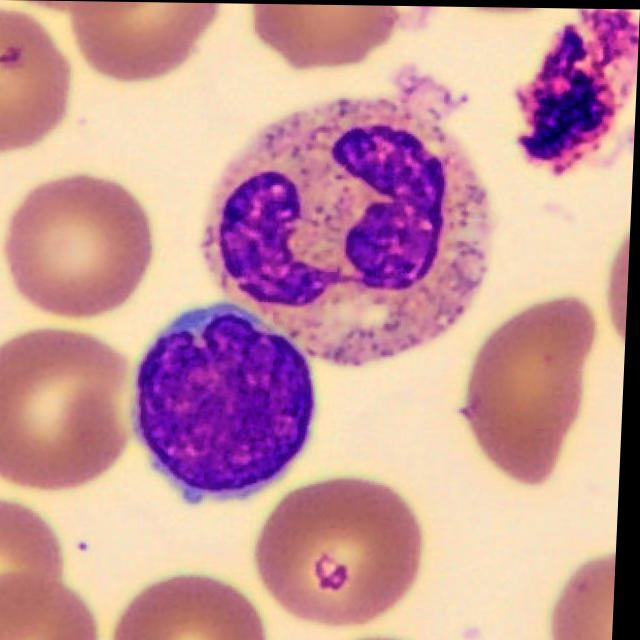Linfocito: (138, 304, 320, 497)
Neutrofilo segmentado: (204, 73, 494, 366)
